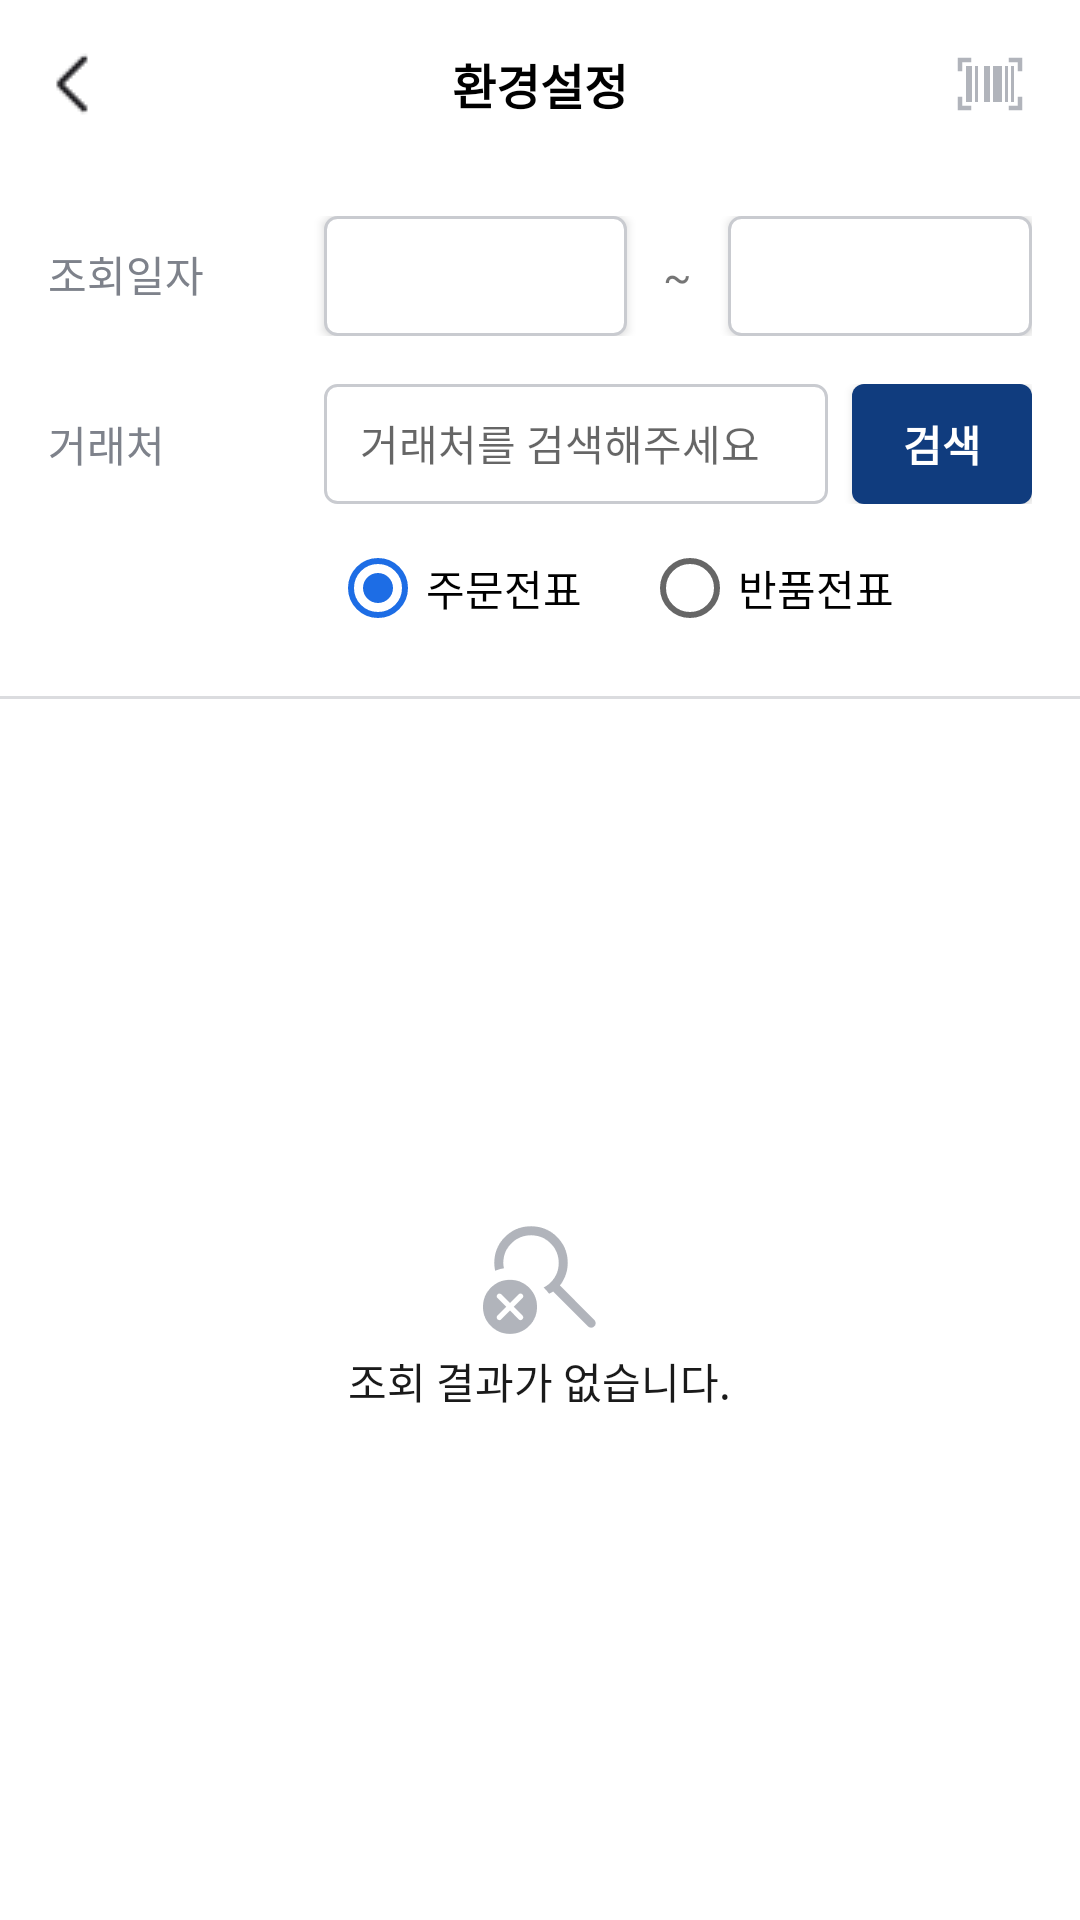

Icon bounding boxes for this 1080*1920 phone screenshot, format bbox(x1, y1, x2, y2):
arrow back: bbox(56, 55, 88, 113)
scan: bbox(958, 58, 1022, 110)
